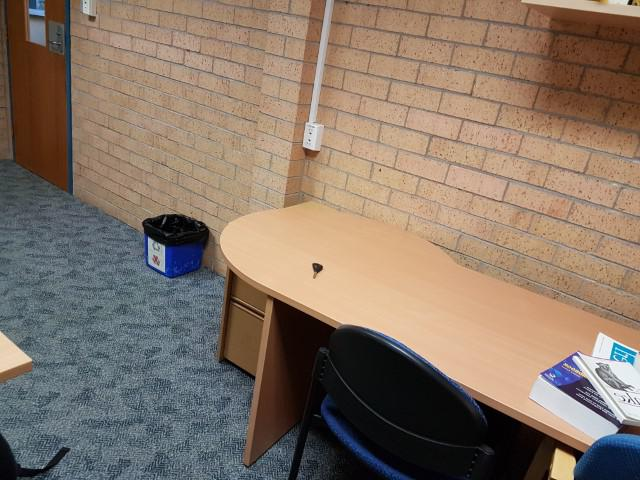key: (311, 263, 324, 278)
